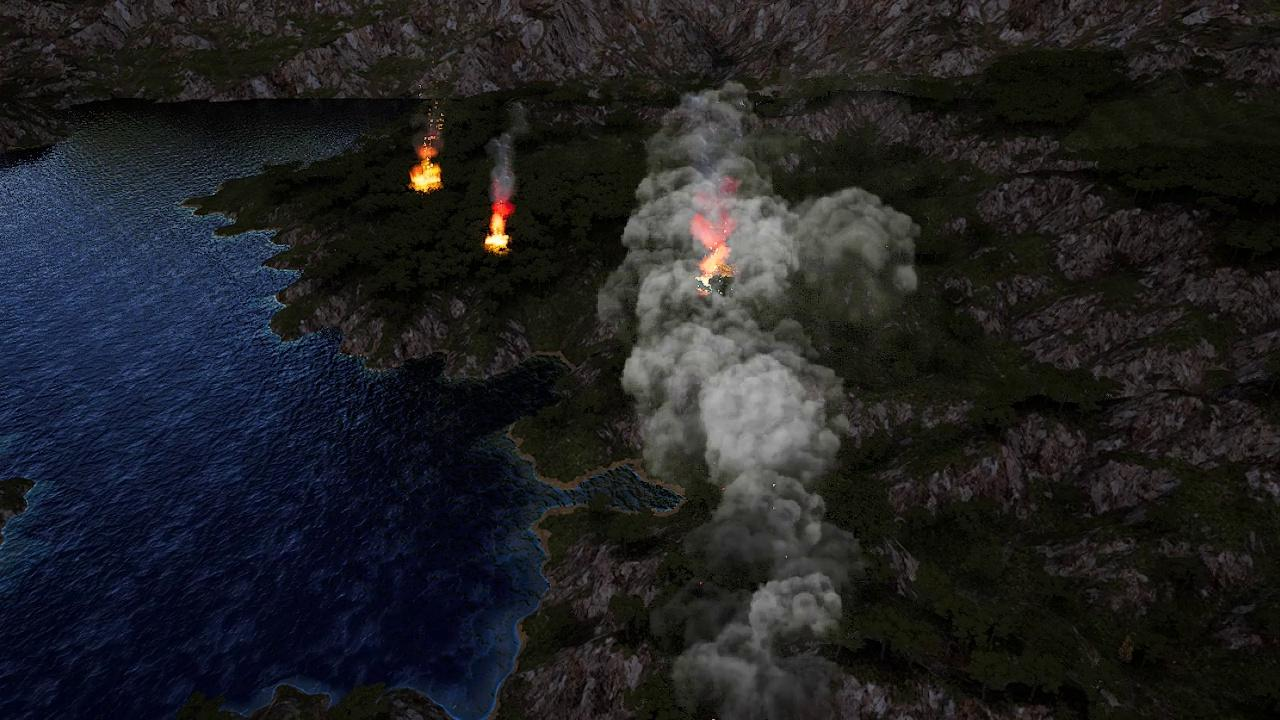fire: (690, 211, 736, 289), (482, 200, 515, 251), (410, 159, 443, 194)
smoke: (611, 91, 925, 720), (487, 108, 530, 202), (411, 90, 448, 158)
